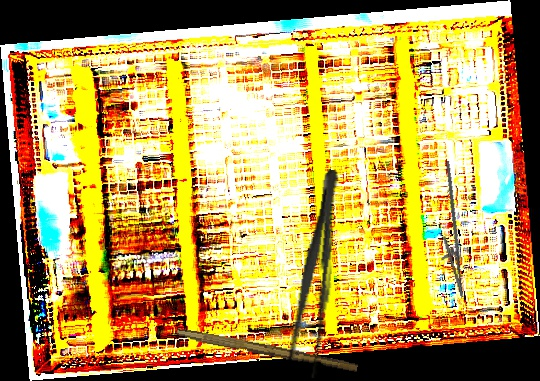Dressing Forceps: (284, 167, 349, 379)
Needle Holder: (419, 160, 481, 301)
Scalpel Handle: (175, 328, 359, 373)
